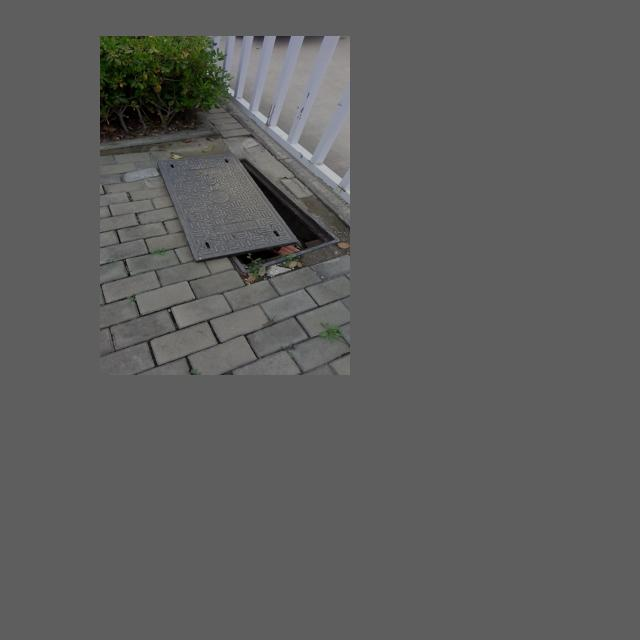uncovered: (158, 154, 341, 271)
